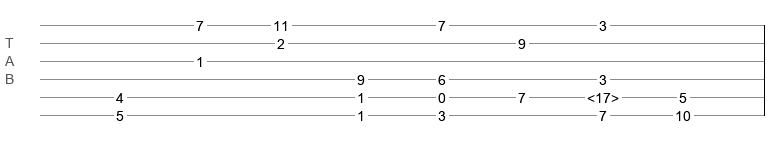0: (438, 90, 446, 100)
1: (196, 54, 204, 64), (357, 90, 365, 100), (357, 108, 365, 118)
10: (675, 108, 691, 118)
11: (273, 18, 289, 28)
2: (277, 36, 285, 46)
3: (438, 108, 446, 118), (599, 18, 607, 28), (599, 72, 607, 82)
4: (116, 90, 124, 100)
5: (116, 108, 124, 118), (679, 90, 687, 100)
6: (438, 72, 446, 82)
7: (196, 18, 204, 28), (438, 18, 446, 28), (518, 90, 526, 100), (599, 108, 607, 118)
9: (357, 72, 365, 82), (518, 36, 526, 46)
harmonic: (587, 90, 619, 100)
